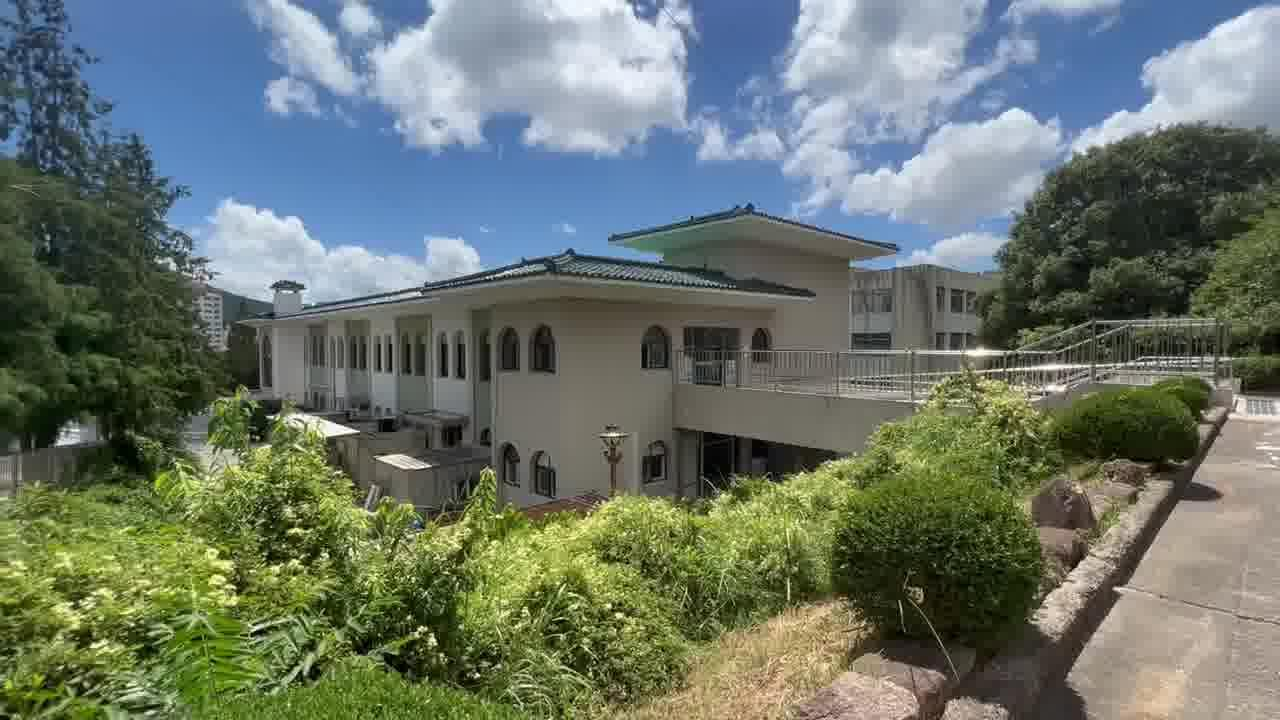building: (322, 200, 911, 442)
